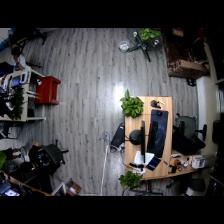normal: (21, 144, 64, 174), (9, 45, 32, 73)
